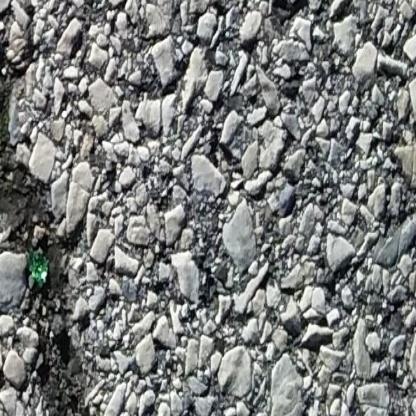Cracks: (0, 41, 98, 416)
